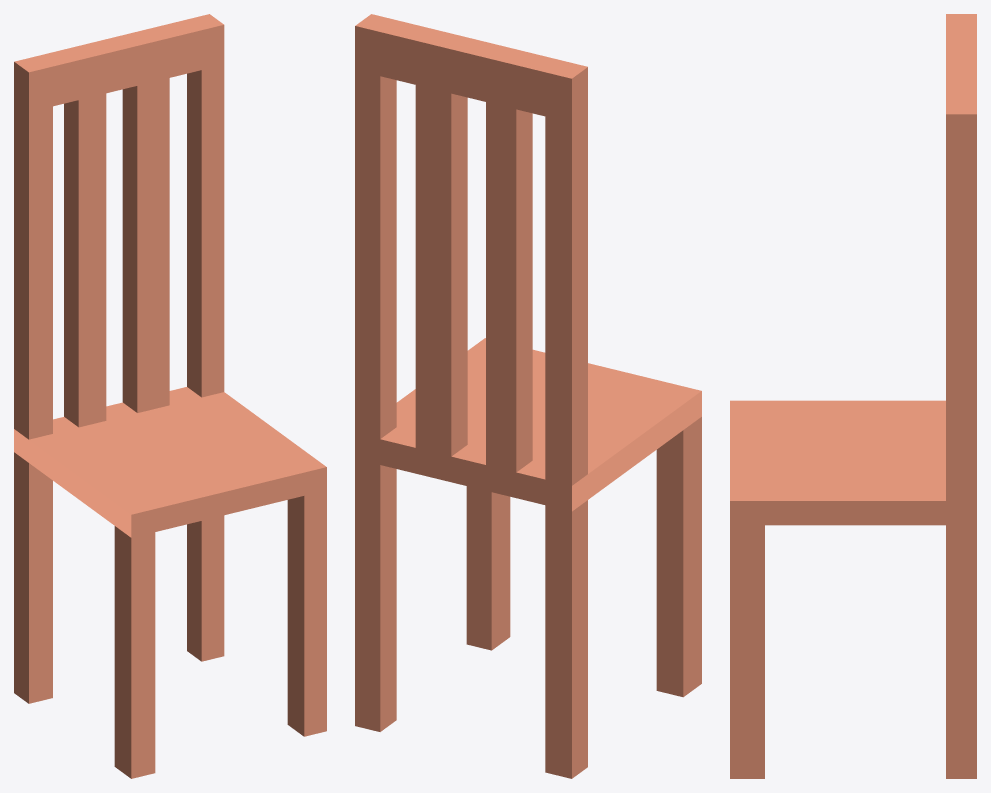
File: dischair.fbx
The picture shows the model from 3 angles, left to right: view 1: azimuth 30°, elevation 25°; view 2: azimuth 150°, elevation 25°; view 3: azimuth 270°, elevation 25°; orthographic projection. The views are drawn at different scales.
Visible parts, largest first — view 1: Cube; view 2: Cube; view 3: Cube.
Boxes of the visible parts, x1=… form: Cube: x1=14, y1=14, x2=326, y2=778; Cube: x1=355, y1=14, x2=701, y2=778; Cube: x1=730, y1=14, x2=976, y2=778.
Size of the model in its own units: 263 by 811 by 273.
